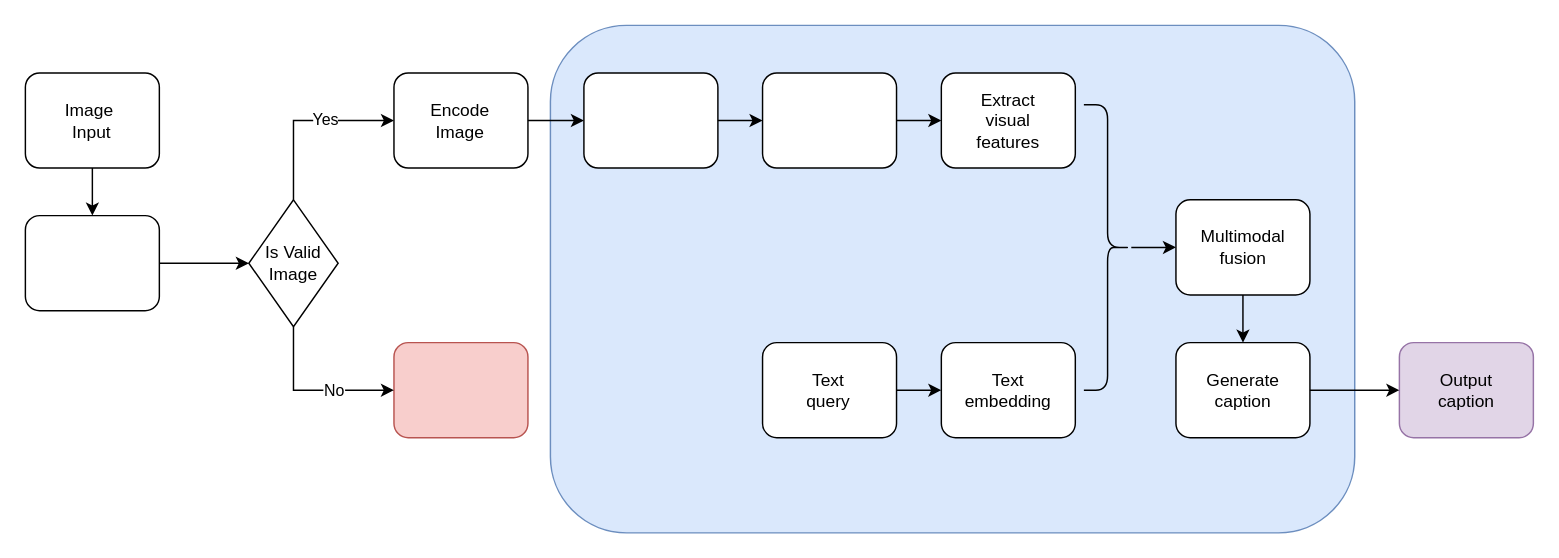
Image size: 1559x558. Some labels were removed from this diagram. The shapes that lost their labels are listed below. From the top down, each one's box as (x1, y1, x2, y2) in pixels, then its label:
(582, 71, 718, 168): Base 64 Encode
(761, 71, 897, 168): Visual encoder
(24, 214, 159, 311): Preprocess Image
(393, 341, 528, 438): Error: Invalid Image
